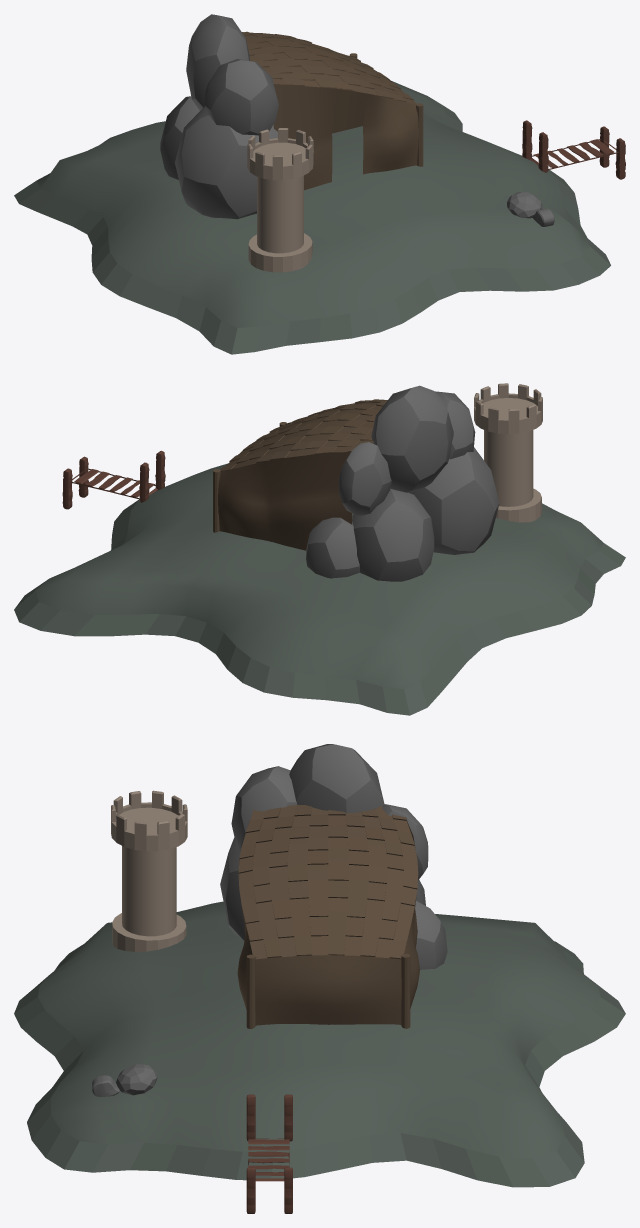
Rendered from Pirat Island.fbx.
The picture shows the model from 3 angles, top to bottom: view 1: azimuth 30°, elevation 25°; view 2: azimuth 150°, elevation 25°; view 3: azimuth 270°, elevation 25°; orthographic projection. The views are drawn at different scales.
Parts seen in each view (by area): view 1: pPlane1, pCube18, pCylinder18, pCylinder13, pCube19; view 2: pPlane1, pCube18, pCylinder18, pCylinder13, pCube19; view 3: pPlane1, pCylinder18, pCube18, pCylinder13, pCube19.
Boxes of the visible parts, x1=… form: pPlane1: x1=14, y1=81, x2=610, y2=354; pCube18: x1=160, y1=14, x2=554, y2=226; pCylinder18: x1=242, y1=31, x2=423, y2=190; pCylinder13: x1=247, y1=128, x2=313, y2=272; pCube19: x1=522, y1=120, x2=625, y2=179; pPlane1: x1=14, y1=463, x2=625, y2=715; pCube18: x1=306, y1=385, x2=499, y2=581; pCylinder18: x1=213, y1=399, x2=387, y2=550; pCylinder13: x1=474, y1=383, x2=542, y2=522; pCube19: x1=62, y1=450, x2=165, y2=509; pPlane1: x1=14, y1=901, x2=625, y2=1187; pCylinder18: x1=237, y1=805, x2=419, y2=1028; pCube18: x1=92, y1=744, x2=447, y2=1096; pCylinder13: x1=111, y1=790, x2=187, y2=951; pCube19: x1=246, y1=1094, x2=292, y2=1213.
Size of the model in its own units: 20.79 by 8.94 by 18.44.
